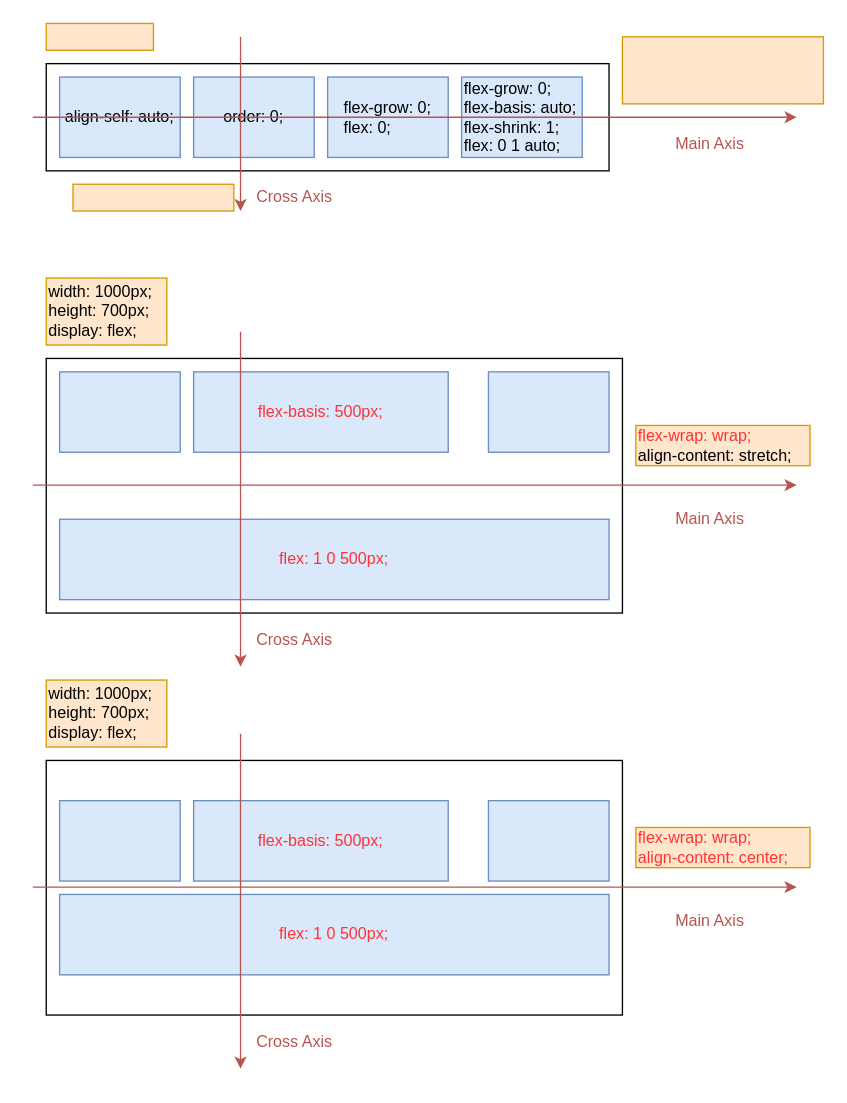
Some shapes in this 847 by 1103 pixel diagram are drawn without their labels. Each missing label, with the centre of its shape:
align-items: stretch;: the point at 153,197
display: flex;: the point at 99,36
flex-direction: row; justify-content: flex-start; flex-wrap: nowrap;: the point at 722,70
